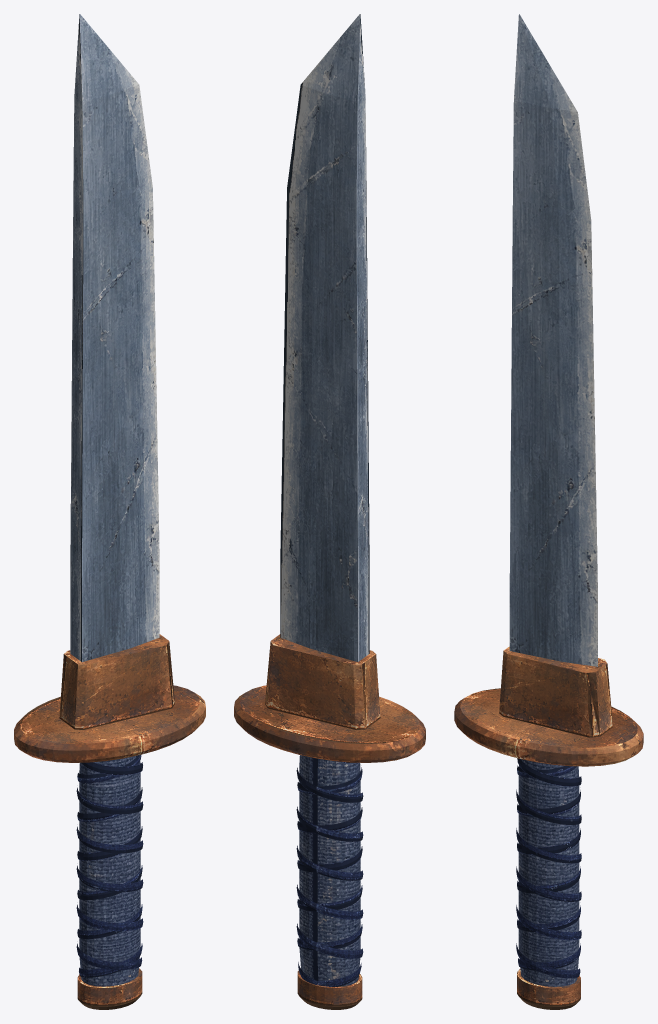
File: tanto.glb
3 views of the same model, side by side, from view 1: azimuth 30°, elevation 25°; view 2: azimuth 150°, elevation 25°; view 3: azimuth 330°, elevation 25° (orthographic).
Visible parts, largest first — view 1: Single_Edge_Tanto_Blade, Indigo_Woven_Grip_Core, Asymmetric_Bronze_Habaki, Oval_Bronze_Tsuba, Opposed_Indigo_Diamond_Laces, Flush_Bronze_Kashira; view 2: Single_Edge_Tanto_Blade, Indigo_Woven_Grip_Core, Asymmetric_Bronze_Habaki, Oval_Bronze_Tsuba, Opposed_Indigo_Diamond_Laces, Flush_Bronze_Kashira; view 3: Single_Edge_Tanto_Blade, Indigo_Woven_Grip_Core, Asymmetric_Bronze_Habaki, Oval_Bronze_Tsuba, Opposed_Indigo_Diamond_Laces, Flush_Bronze_Kashira.
Part boxes in pixels (box(x1,y1,x2,y2)): Single_Edge_Tanto_Blade: box(70, 14, 159, 661); Indigo_Woven_Grip_Core: box(79, 755, 140, 986); Asymmetric_Bronze_Habaki: box(59, 634, 174, 729); Oval_Bronze_Tsuba: box(14, 685, 205, 762); Opposed_Indigo_Diamond_Laces: box(76, 755, 143, 977); Flush_Bronze_Kashira: box(77, 968, 142, 1009); Single_Edge_Tanto_Blade: box(280, 14, 369, 661); Indigo_Woven_Grip_Core: box(299, 755, 360, 986); Asymmetric_Bronze_Habaki: box(265, 634, 380, 729); Oval_Bronze_Tsuba: box(234, 685, 425, 762); Opposed_Indigo_Diamond_Laces: box(296, 761, 363, 986); Flush_Bronze_Kashira: box(297, 970, 362, 1009); Single_Edge_Tanto_Blade: box(509, 14, 597, 666); Indigo_Woven_Grip_Core: box(518, 759, 579, 986); Asymmetric_Bronze_Habaki: box(499, 646, 612, 737); Oval_Bronze_Tsuba: box(454, 688, 643, 766); Opposed_Indigo_Diamond_Laces: box(516, 758, 581, 978); Flush_Bronze_Kashira: box(517, 969, 580, 1009).
Size of the model in its own units: 0.08 by 0.42 by 0.05.
1 material, 1 textured.
